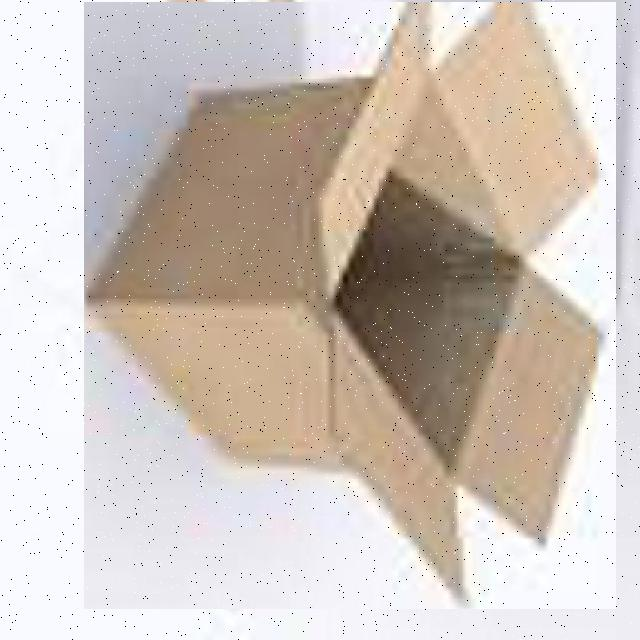defect: (84, 2, 616, 609)
